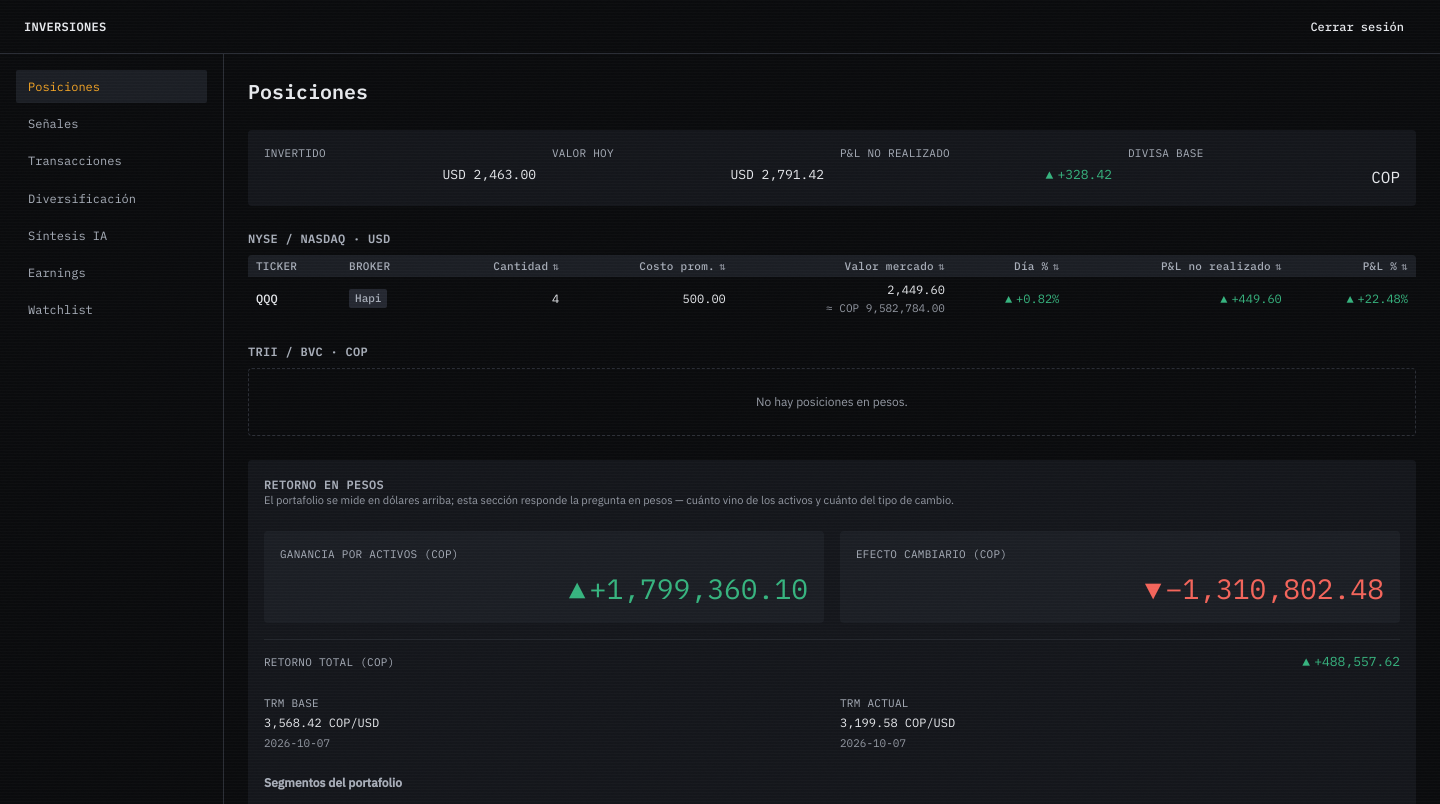
Scenario: the authenticated route tree › logs out, clearing the session and landing on /login
expect the heading "Posiciones" is shown: met, box [248,78,368,105]
Click the button "Cerrar sesión" at x=1357, y=27, box [1298,12,1416,41]
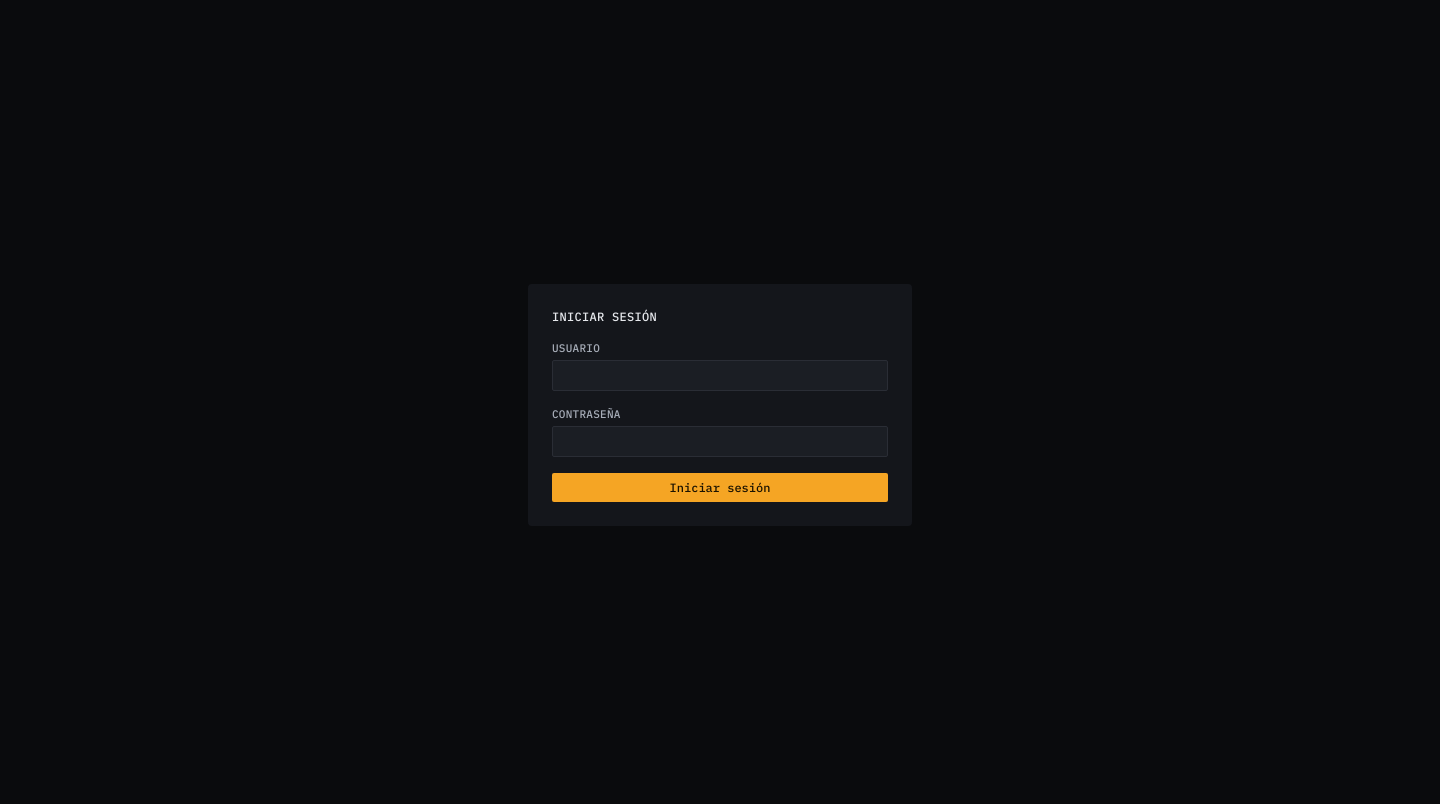
expect the heading "Iniciar sesión" is shown: met, box [552,309,657,324]
